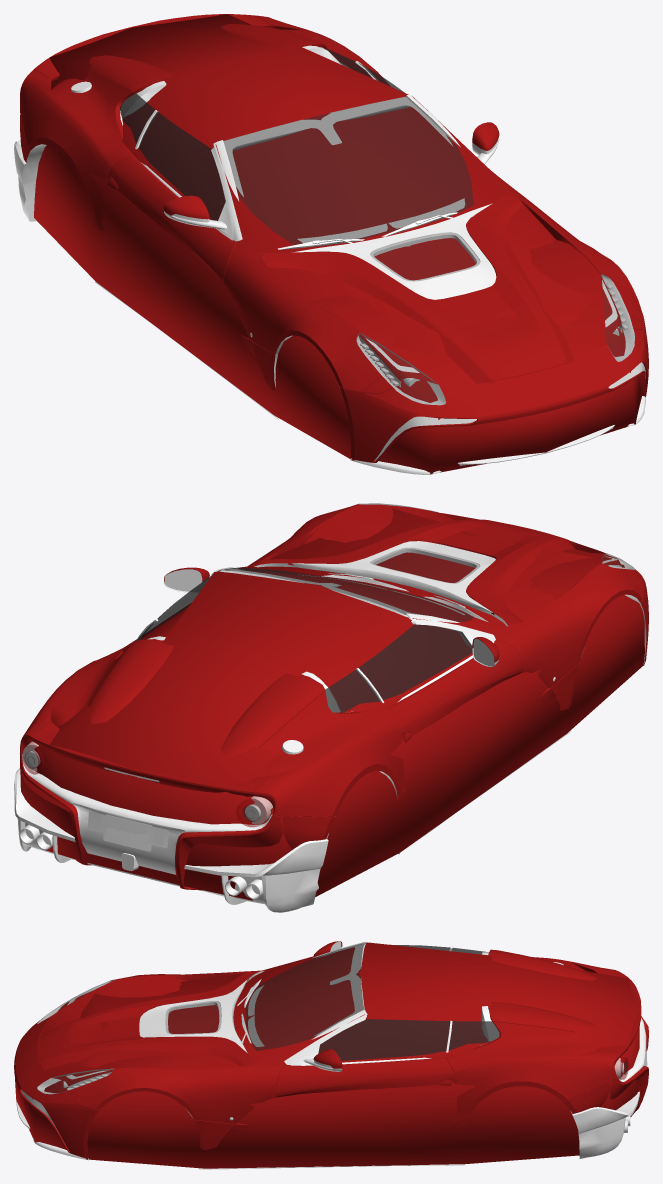
Rendered from RMCar09.FBX.
3 renders of one model, top to bottom at view 1: azimuth 30°, elevation 25°; view 2: azimuth 150°, elevation 25°; view 3: azimuth 270°, elevation 25°, orthographic. The views are drawn at different scales.
Parts seen in each view (by area): view 1: RMCar09_Body_Col, RMCar09_Paint_LOD0, RMCar09_Windows_LOD0, RMCar09_Body_LOD0, RMCar09_Windows2_LOD0, RMCar09_Interior_LOD0, RMCar09_Light_LOD0; view 2: RMCar09_Body_Col, RMCar09_Paint_LOD0, RMCar09_Body_LOD0, RMCar09_Windows_LOD0, RMCar09_Windows2_LOD0, RMCar09_Interior_LOD0, RMCar09_NumberTypeEU; view 3: RMCar09_Body_Col, RMCar09_Paint_LOD0, RMCar09_Windows_LOD0, RMCar09_Body_LOD0, RMCar09_Windows2_LOD0, RMCar09_Interior_LOD0, RMCar09_Light_LOD0.
Boxes of the visible parts, x1,y1,x2,y2 form: RMCar09_Body_Col: [20, 14, 641, 474]; RMCar09_Paint_LOD0: [20, 14, 648, 462]; RMCar09_Windows_LOD0: [51, 89, 634, 404]; RMCar09_Body_LOD0: [14, 62, 645, 474]; RMCar09_Windows2_LOD0: [120, 47, 404, 220]; RMCar09_Interior_LOD0: [120, 45, 465, 243]; RMCar09_Light_LOD0: [356, 274, 634, 405]; RMCar09_Body_Col: [20, 508, 644, 909]; RMCar09_Paint_LOD0: [20, 504, 648, 890]; RMCar09_Body_LOD0: [14, 541, 646, 912]; RMCar09_Windows_LOD0: [21, 503, 634, 827]; RMCar09_Windows2_LOD0: [135, 575, 472, 712]; RMCar09_Interior_LOD0: [147, 569, 471, 712]; RMCar09_NumberTypeEU: [101, 816, 163, 845]; RMCar09_Body_Col: [15, 942, 639, 1168]; RMCar09_Paint_LOD0: [14, 941, 648, 1158]; RMCar09_Windows_LOD0: [37, 943, 628, 1093]; RMCar09_Body_LOD0: [16, 941, 646, 1169]; RMCar09_Windows2_LOD0: [318, 944, 499, 1060]; RMCar09_Interior_LOD0: [248, 943, 499, 1046]; RMCar09_Light_LOD0: [37, 980, 623, 1094].
Size of what is drawn, in the model's own units: 210 by 463 by 115.
